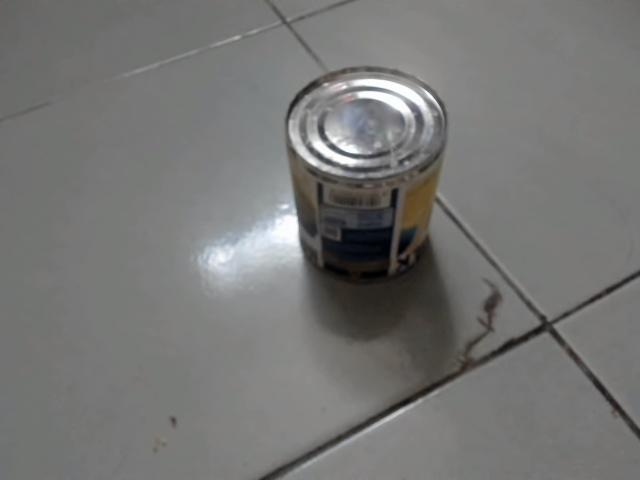anorganik: (280, 61, 453, 291)
